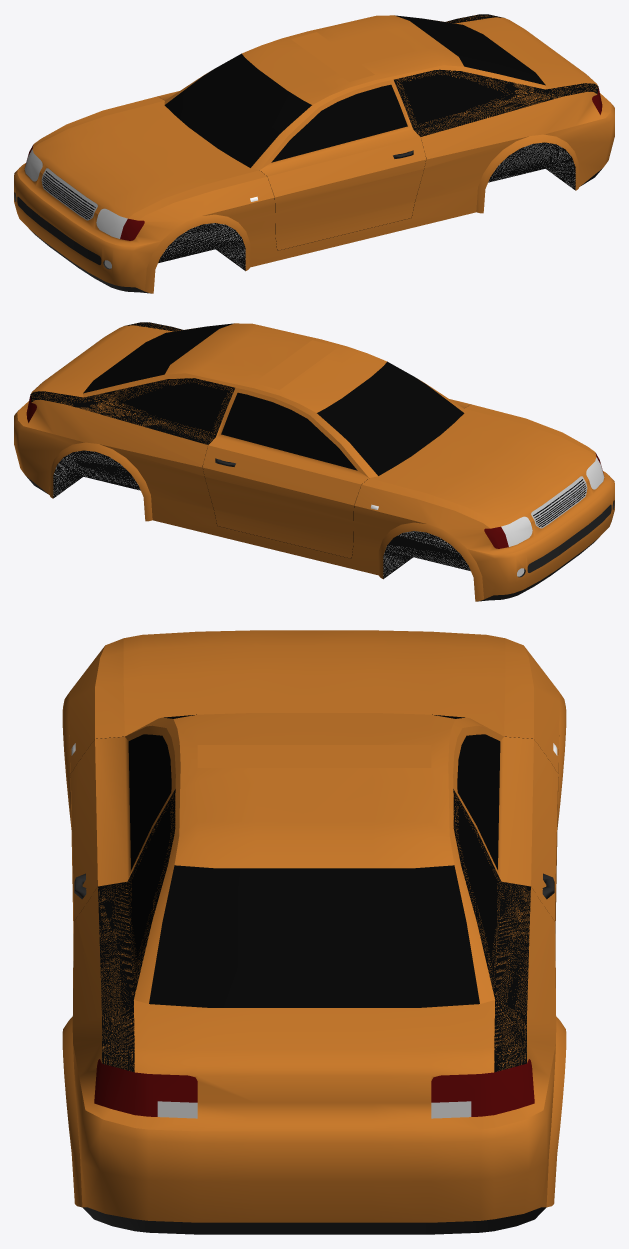
File: car.fbx
The picture shows the model from 3 angles, top to bottom: view 1: azimuth 30°, elevation 25°; view 2: azimuth 150°, elevation 25°; view 3: azimuth 270°, elevation 25°; orthographic projection. The views are drawn at different scales.
Visible parts, largest first — view 1: Model; view 2: Model; view 3: Model.
Boxes of the visible parts, left/top/right/bottom form: Model: left=14, top=14, right=614, bottom=293; Model: left=14, top=322, right=614, bottom=601; Model: left=62, top=630, right=566, bottom=1234.
Size of the model in its own units: 5.89 by 1.47 by 2.48.
